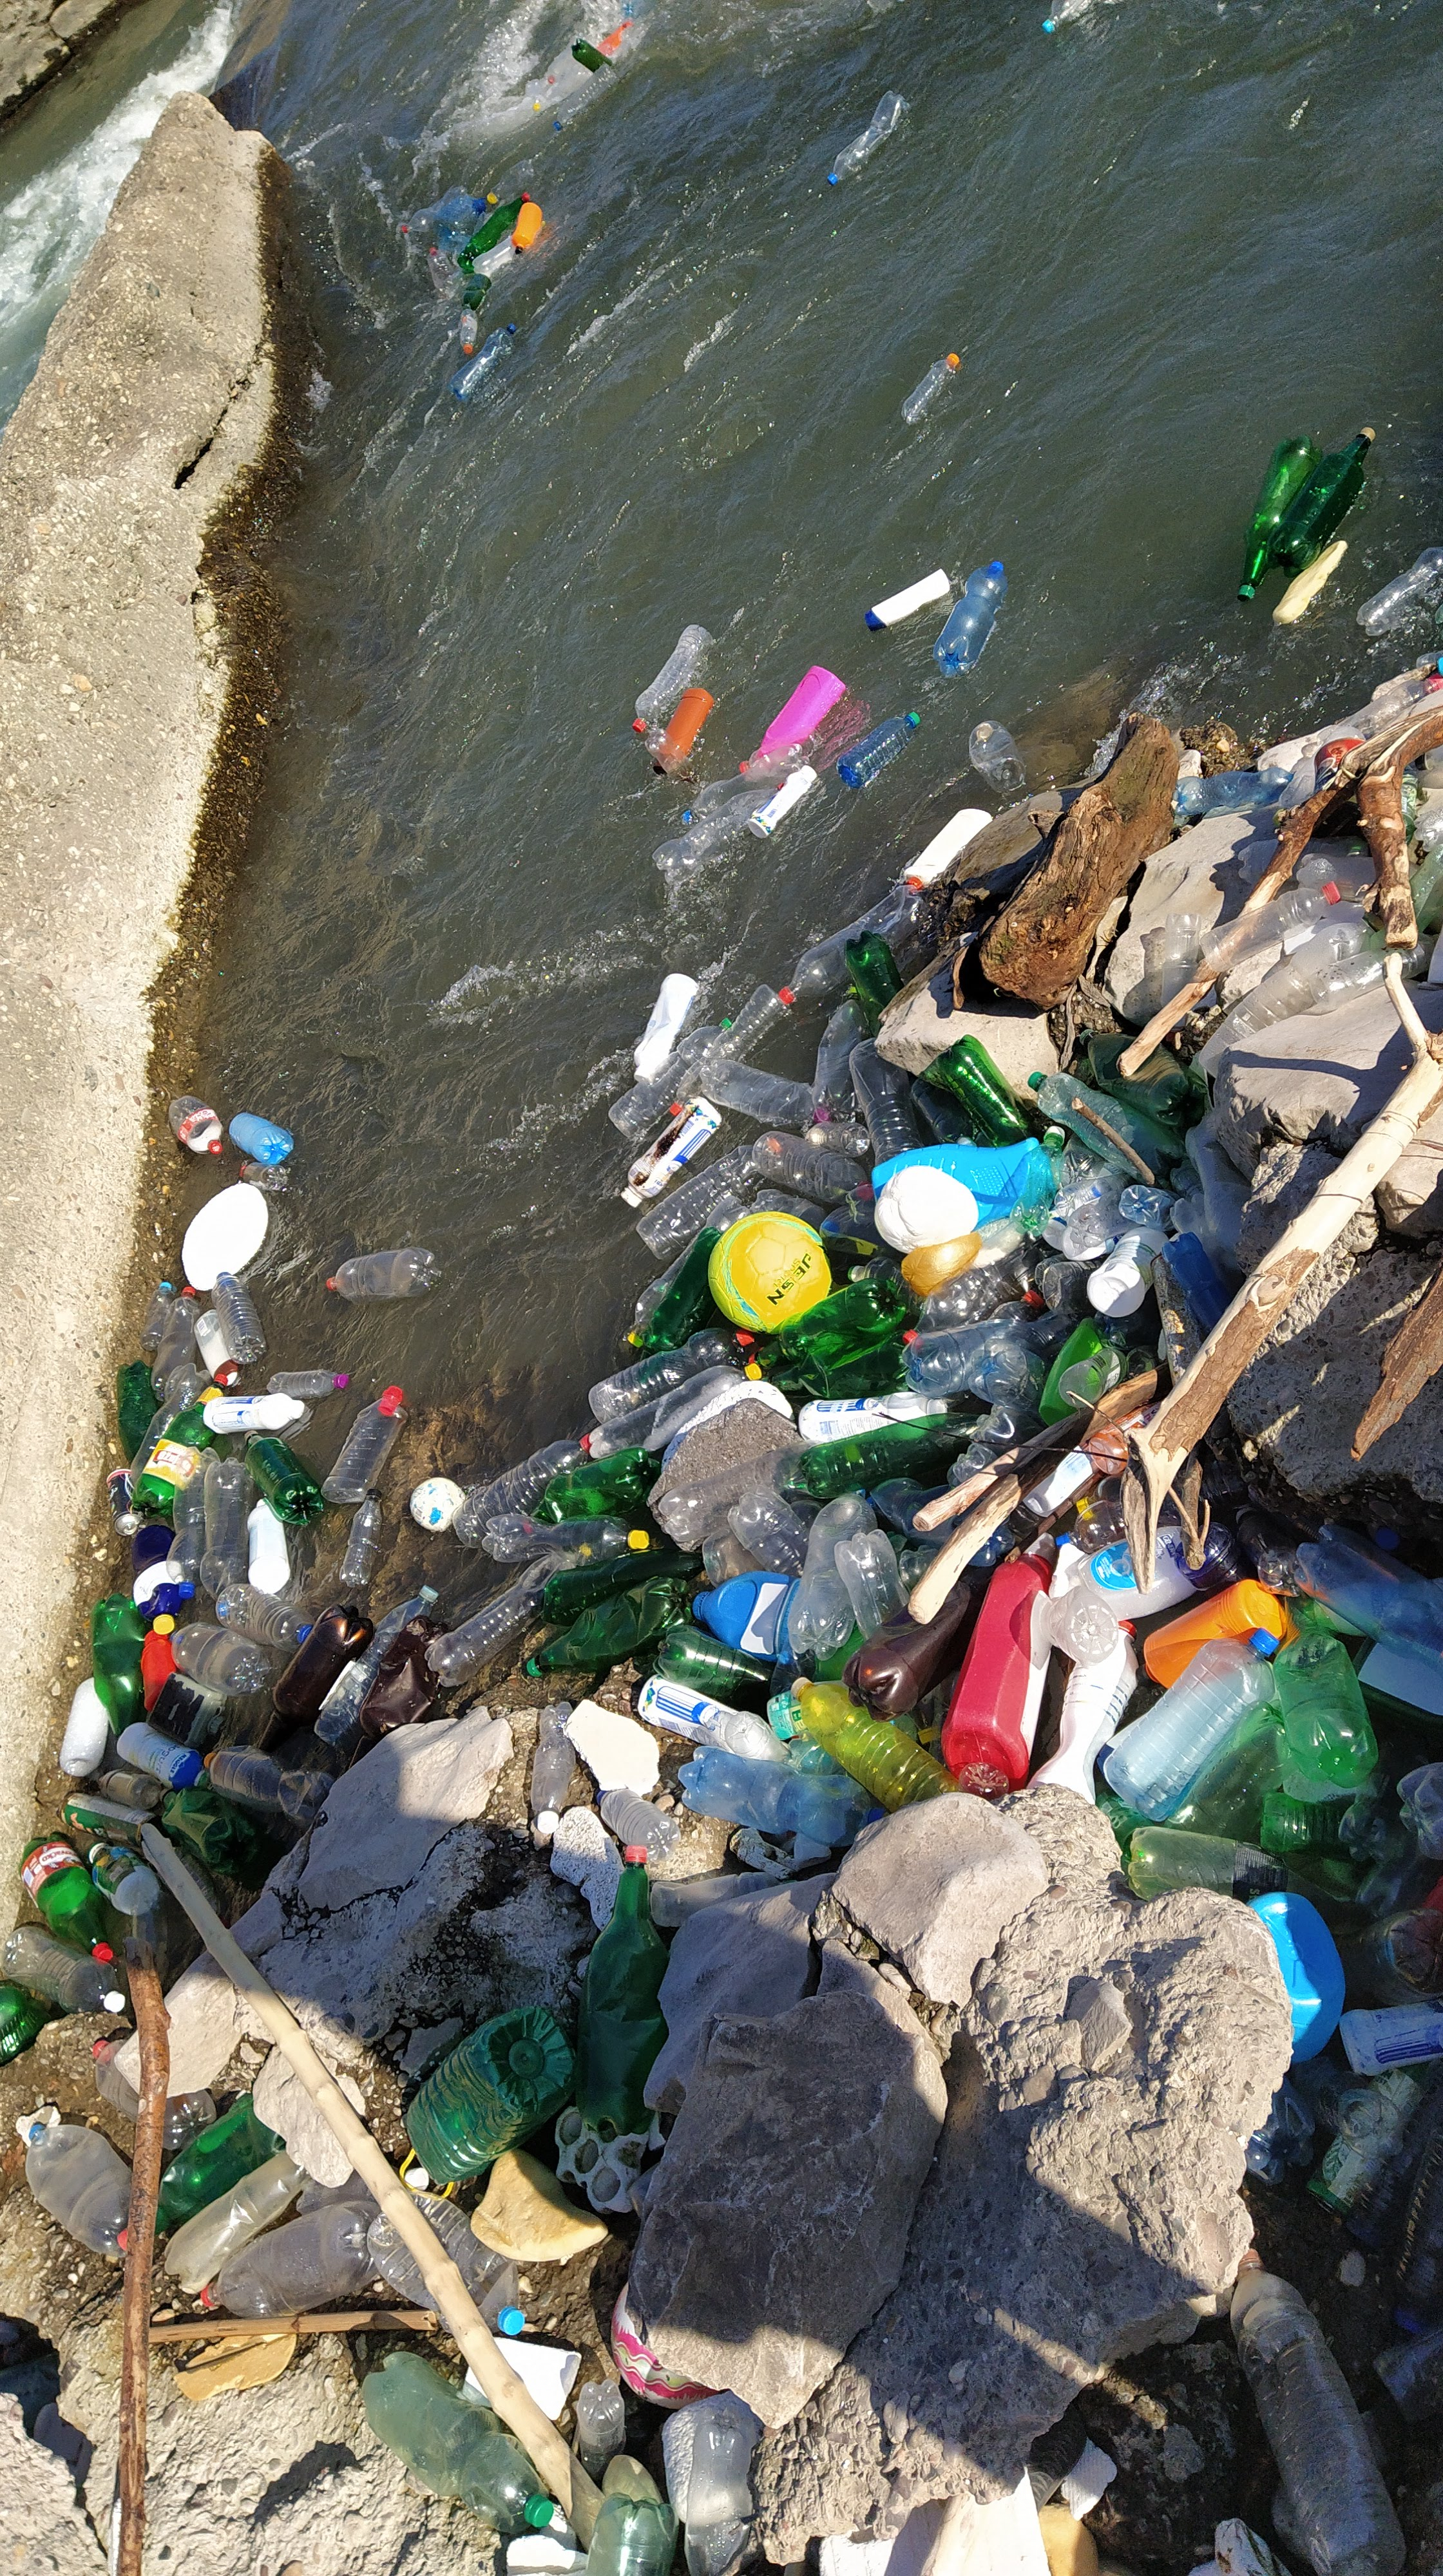Plastic Bottle: (313, 1585, 437, 1752), (425, 1553, 575, 1688), (627, 1196, 752, 1348), (777, 885, 931, 1005), (257, 1603, 374, 1753), (590, 1364, 760, 1460), (588, 1327, 756, 1422), (634, 1143, 768, 1260), (451, 1433, 590, 1546), (1266, 426, 1372, 573), (667, 985, 788, 1115), (349, 1615, 450, 1766), (607, 1017, 731, 1138), (1238, 435, 1323, 602), (131, 1375, 228, 1518), (652, 784, 783, 886), (19, 1835, 113, 1962), (620, 1097, 721, 1207), (0, 1925, 126, 2012), (204, 1746, 335, 1828), (320, 1385, 409, 1504), (129, 1362, 212, 1484), (529, 1447, 662, 1523), (644, 1226, 722, 1350), (482, 1513, 650, 1566), (692, 743, 811, 817), (632, 625, 714, 732), (933, 561, 1007, 678), (161, 1787, 259, 1875), (813, 985, 875, 1122), (752, 1131, 866, 1205), (829, 90, 914, 186), (166, 1447, 220, 1598), (699, 1058, 814, 1127), (1356, 547, 1441, 637), (90, 1592, 143, 1736), (760, 665, 843, 755), (903, 807, 993, 890), (244, 1430, 322, 1525), (200, 1458, 251, 1599), (170, 1622, 269, 1695), (214, 1583, 315, 1652), (634, 971, 698, 1079), (836, 709, 921, 789), (843, 931, 905, 1035), (115, 1721, 209, 1787), (326, 1247, 441, 1300), (131, 1525, 182, 1635), (150, 1286, 198, 1401), (864, 568, 949, 632), (747, 764, 820, 839), (89, 1842, 161, 1916), (653, 686, 714, 775), (211, 1272, 267, 1364), (450, 324, 517, 400), (58, 1677, 106, 1778), (464, 191, 533, 258), (115, 1359, 158, 1463), (899, 352, 960, 425), (246, 1497, 290, 1594), (554, 65, 620, 131), (340, 1490, 382, 1587), (202, 1392, 303, 1433), (968, 720, 1025, 791), (131, 1888, 168, 1983), (193, 1309, 237, 1387), (168, 1095, 223, 1155), (402, 186, 471, 232), (749, 1189, 827, 1230), (228, 1113, 294, 1161), (432, 195, 485, 253), (140, 1631, 175, 1711), (97, 1769, 161, 1810), (140, 1281, 174, 1352), (646, 729, 692, 778), (806, 1122, 869, 1157), (487, 159, 535, 203), (267, 1371, 347, 1398), (512, 202, 542, 255), (1043, 0, 1092, 32), (473, 237, 515, 274), (549, 65, 593, 99), (239, 1162, 289, 1191), (570, 39, 613, 71), (547, 41, 579, 83), (595, 23, 636, 55), (428, 246, 455, 292), (462, 274, 492, 310), (460, 310, 478, 356), (738, 748, 758, 773), (457, 251, 473, 274), (620, 0, 641, 16), (1434, 603, 1443, 637)
